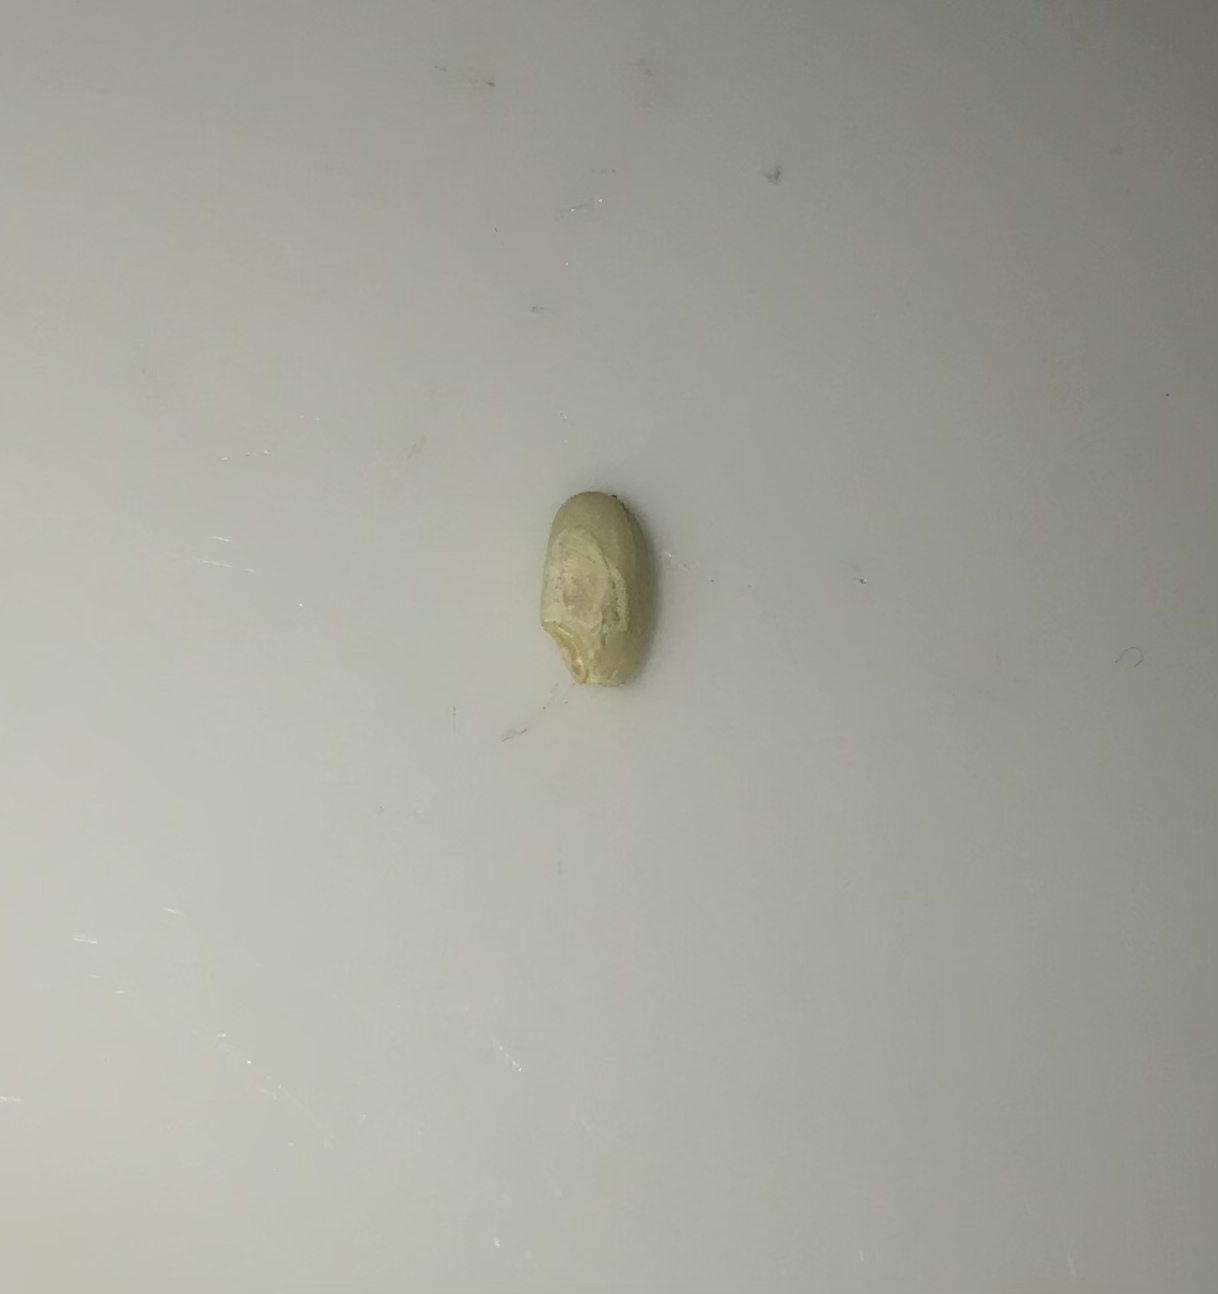Gao Lut Bac: (525, 471, 667, 701)
